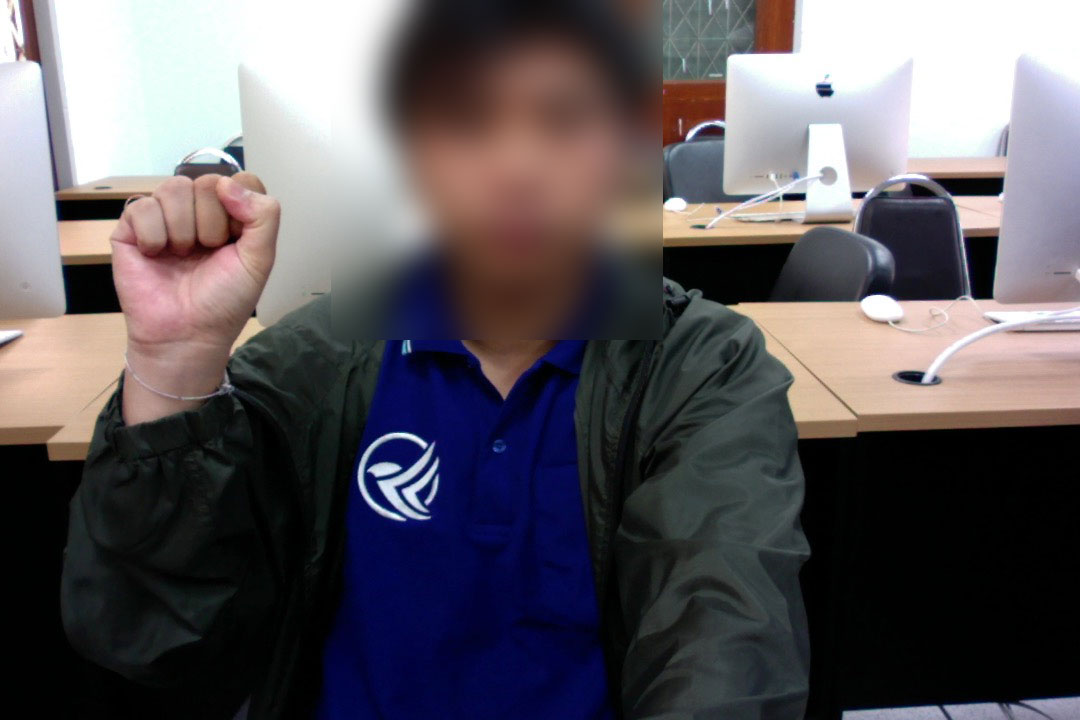sor: (96, 165, 287, 380)
